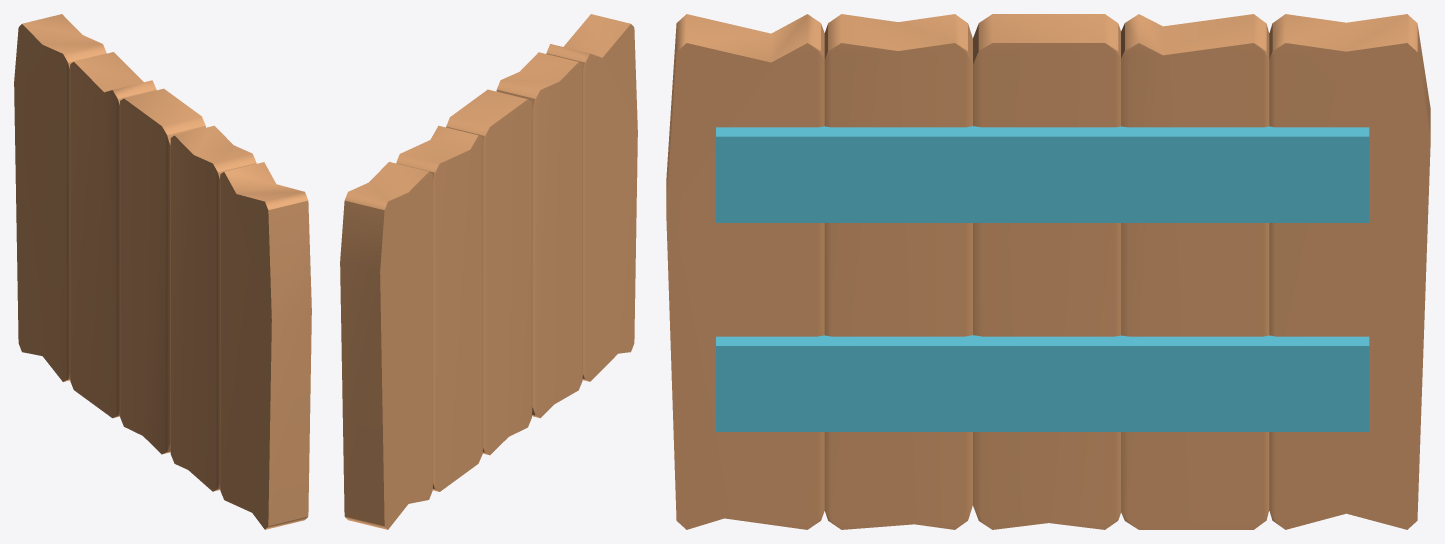
File: Porte_Low.fbx
3 renders of one model, left to right at view 1: azimuth 30°, elevation 25°; view 2: azimuth 150°, elevation 25°; view 3: azimuth 270°, elevation 25°, orthographic. The views are drawn at different scales.
Visible parts, largest first — view 1: Porte; view 2: Porte; view 3: Porte.
Part boxes in pixels (bbox=[...]): Porte: bbox=[14, 14, 311, 529]; Porte: bbox=[340, 14, 637, 529]; Porte: bbox=[666, 14, 1430, 529].
Size of the model in its own units: 1.9 by 16.07 by 11.29.
